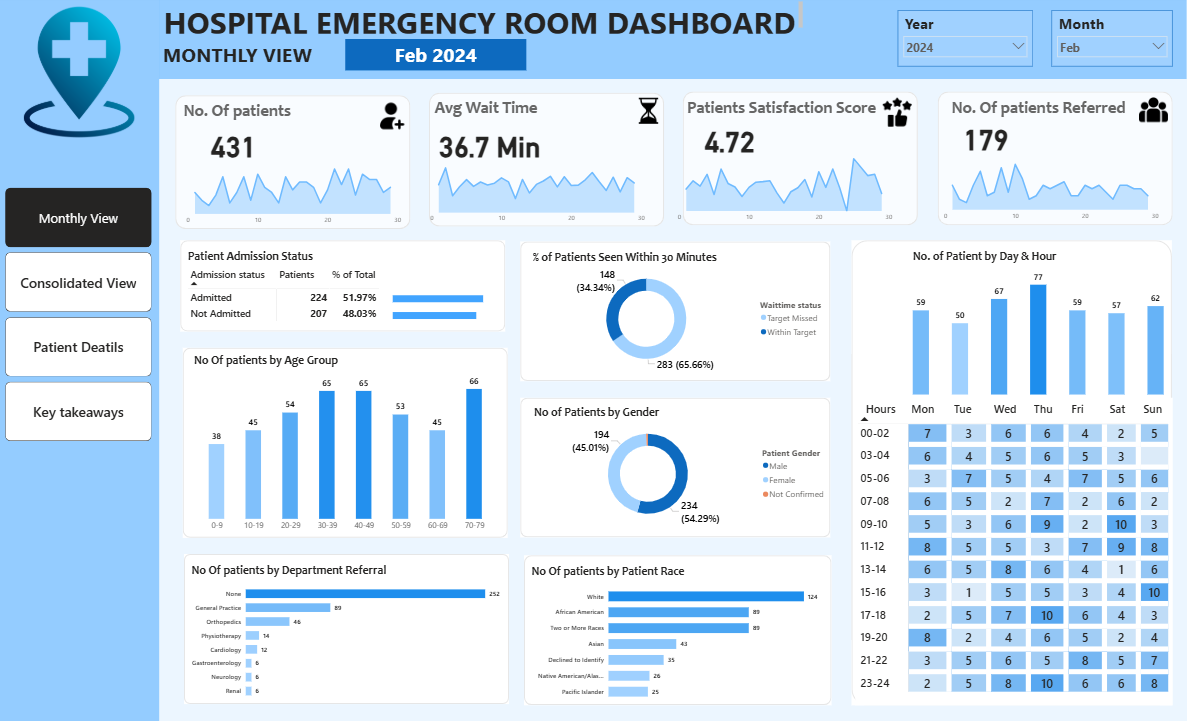

Layout of this report page (visuals, bound fields, positions):
{"tool":"powerbi","page":{"name":"Monthly View","canvas":[2300,1400],"ordinal":0},"visuals":[{"type":"shape","box":[0,0,310,1400.5],"z":0},{"type":"shape","box":[309.6,0,1990.7,154.8],"z":1000},{"type":"shape","box":[341.1,185.3,455,259],"z":2000},{"type":"textbox","box":[309.6,0,1250.5,72.6],"z":3000},{"type":"textbox","box":[309.6,77.4,343.5,62.9],"z":4000},{"type":"card","fields":{"Values":["Hospital ER_Data.No Of patients"]},"box":[309.6,207.1,287.8,142.7],"z":5000},{"type":"slicer","fields":{"Values":["Date Table.Year"]},"box":[1739.1,21.8,261.2,108.8],"z":6000},{"type":"slicer","fields":{"Values":["Date Table.Month"]},"box":[2036.6,21.8,234.6,108.8],"z":7000},{"type":"textbox","box":[324.1,191.1,273.3,72.6],"z":8000},{"type":"areaChart","fields":{"Category":["Date Table.Date.Variation.Date Hierarchy.Day"],"Y":["Hospital ER_Data.No Of patients"]},"box":[350.7,299.9,435.4,145.1],"z":9000},{"type":"card","fields":{"Values":["Min(Date Table.Month & Year)"]},"box":[670,77.4,350.7,60.5],"z":10000},{"type":"shape","box":[832.7,182.2,455,259],"z":11000},{"type":"card","fields":{"Values":["Hospital ER_Data.Avg Wait Time"]},"box":[805.5,208,287.8,142.7],"z":12000},{"type":"textbox","box":[805.5,186.2,273.3,72.6],"z":13000},{"type":"areaChart","fields":{"Category":["Date Table.Date.Variation.Date Hierarchy.Day"],"Y":["Avg(Hospital ER_Data.Patient Waittime)"]},"box":[823.2,298.3,435.4,145.1],"z":14000},{"type":"shape","box":[1324.3,179.5,455,259],"z":15000},{"type":"card","fields":{"Values":["Hospital ER_Data.Satisfaction Score"]},"box":[1269.7,197.7,287.8,142.7],"z":16000},{"type":"textbox","box":[1301.3,186.2,425.7,72.6],"z":17000},{"type":"areaChart","fields":{"Category":["Date Table.Date.Variation.Date Hierarchy.Day"],"Y":["Hospital ER_Data.Satisfaction Score"]},"box":[1301.2,294.5,435.4,145.1],"z":18000},{"type":"shape","box":[1816.5,179,454.7,258.8],"z":19000},{"type":"card","fields":{"Values":["Hospital ER_Data.No. Of patients Referred"]},"box":[1765.7,195.9,287.8,142.7],"z":20000},{"type":"textbox","box":[1826.2,186.2,370.1,72.6],"z":21000},{"type":"areaChart","fields":{"Category":["Date Table.Date.Variation.Date Hierarchy.Day"],"Y":["Hospital ER_Data.No. Of patients Referred"]},"box":[1815.9,292.5,435.4,145.1],"z":22000},{"type":"shape","box":[350.7,466.8,628.9,176.6],"z":23000},{"type":"pivotTable","title":"Patient Admission Status","fields":{"Rows":["Hospital ER_Data.Admission status"],"Values":["Hospital ER_Data.No Of patients1","Hospital ER_Data.No Of patients"]},"box":[360.4,483.8,624.1,176.6],"z":24000},{"type":"barChart","fields":{"Category":["Hospital ER_Data.Admission status"],"Y":["Hospital ER_Data.No Of patients"]},"box":[757.1,544.2,244.3,99.2],"z":25000},{"type":"shape","box":[355.6,674.6,628.9,367.7],"z":26000},{"type":"columnChart","title":"    No Of patients by Age Group","fields":{"Category":["Hospital ER_Data.Age Group"],"Y":["Hospital ER_Data.No Of patients"]},"box":[372.5,685.5,597.4,355.6],"z":27000},{"type":"shape","box":[358.5,1074.4,628.9,290.3],"z":28000},{"type":"clusteredBarChart","fields":{"Category":["Hospital ER_Data.Department Referral"],"Y":["Hospital ER_Data.No Of patients"]},"box":[368.1,1091.4,609.5,273.3],"z":29000},{"type":"shape","box":[1009.1,469.2,600,270],"z":30000},{"type":"donutChart","title":"% of Patients Seen Within 30 Minutes","fields":{"Category":["Hospital ER_Data.Waittime status"],"Y":["Hospital ER_Data.No Of patients"]},"box":[1027.5,485,582.5,237.5],"z":31000},{"type":"shape","box":[1009.1,771.2,600,270],"z":32000},{"type":"donutChart","title":"No of Patients by Gender","fields":{"Category":["Hospital ER_Data.Patient Gender"],"Y":["Hospital ER_Data.No Of patients"]},"box":[1030,785,580,237.5],"z":33000},{"type":"shape","box":[1015,1077.5,595,290],"z":34000},{"type":"clusteredBarChart","fields":{"Y":["Hospital ER_Data.No Of patients"],"Category":["Hospital ER_Data.Patient Race"]},"box":[1025,1092.5,565,275],"z":35000},{"type":"shape","box":[1650,467.5,620,900],"z":36000},{"type":"pivotTable","fields":{"Columns":["Date Table.Day"],"Rows":["Hospital ER_Data.Admittime interval"],"Values":["Hospital ER_Data.No Of patients"]},"box":[1656.9,771.6,614.4,595],"z":37000},{"type":"columnChart","title":"No. of Patient by Day & Hour","fields":{"Y":["CountNonNull(Hospital ER_Data.Patient Id)"],"Category":["Date Table.Day"]},"box":[1763.3,483.8,498.3,287.8],"z":38000},{"type":"image","box":[26.6,14.5,256.4,254],"z":39000},{"type":"image","box":[2206,186.2,55.6,55.6],"z":40000},{"type":"image","box":[1710.1,191.1,55.6,55.6],"z":41000},{"type":"image","box":[730.5,198.3,55.6,55.6],"z":42000},{"type":"image","box":[1228.8,191.1,55.6,50],"z":43000},{"type":"pageNavigator","box":[12.1,365.2,283,493.4],"z":44000}]}

Visuals, with their boxes in screenshot pixels (x1, y1, x2, y2), scaled from the page's 2300x1400 canvas onto the 1187x721 screenshot:
shape: <bbox>0, 0, 160, 720</bbox>
shape: <bbox>160, 0, 1186, 80</bbox>
shape: <bbox>176, 95, 411, 229</bbox>
textbox: <bbox>160, 0, 805, 37</bbox>
textbox: <bbox>160, 40, 337, 72</bbox>
card - Hospital ER_Data.No Of patients: <bbox>160, 107, 308, 180</bbox>
slicer - Date Table.Year: <bbox>898, 11, 1032, 67</bbox>
slicer - Date Table.Month: <bbox>1051, 11, 1172, 67</bbox>
textbox: <bbox>167, 98, 308, 136</bbox>
areaChart - Date Table.Date.Variation.Date Hierarchy.Day x Hospital ER_Data.No Of patients: <bbox>181, 154, 406, 229</bbox>
card - Min(Date Table.Month & Year): <bbox>346, 40, 527, 71</bbox>
shape: <bbox>430, 94, 665, 227</bbox>
card - Hospital ER_Data.Avg Wait Time: <bbox>416, 107, 564, 181</bbox>
textbox: <bbox>416, 96, 557, 133</bbox>
areaChart - Date Table.Date.Variation.Date Hierarchy.Day x Avg(Hospital ER_Data.Patient Waittime): <bbox>425, 154, 650, 228</bbox>
shape: <bbox>683, 92, 918, 226</bbox>
card - Hospital ER_Data.Satisfaction Score: <bbox>655, 102, 804, 175</bbox>
textbox: <bbox>672, 96, 891, 133</bbox>
areaChart - Date Table.Date.Variation.Date Hierarchy.Day x Hospital ER_Data.Satisfaction Score: <bbox>672, 152, 896, 226</bbox>
shape: <bbox>937, 92, 1172, 225</bbox>
card - Hospital ER_Data.No. Of patients Referred: <bbox>911, 101, 1060, 174</bbox>
textbox: <bbox>942, 96, 1133, 133</bbox>
areaChart - Date Table.Date.Variation.Date Hierarchy.Day x Hospital ER_Data.No. Of patients Referred: <bbox>937, 151, 1162, 225</bbox>
shape: <bbox>181, 240, 506, 331</bbox>
"Patient Admission Status" pivotTable: <bbox>186, 249, 508, 340</bbox>
barChart - Hospital ER_Data.Admission status x Hospital ER_Data.No Of patients: <bbox>391, 280, 517, 331</bbox>
shape: <bbox>184, 347, 508, 537</bbox>
"    No Of patients by Age Group" columnChart: <bbox>192, 353, 501, 536</bbox>
shape: <bbox>185, 553, 510, 703</bbox>
clusteredBarChart - Hospital ER_Data.Department Referral x Hospital ER_Data.No Of patients: <bbox>190, 562, 505, 703</bbox>
shape: <bbox>521, 242, 830, 381</bbox>
"% of Patients Seen Within 30 Minutes" donutChart: <bbox>530, 250, 831, 372</bbox>
shape: <bbox>521, 397, 830, 536</bbox>
"No of Patients by Gender" donutChart: <bbox>532, 404, 831, 527</bbox>
shape: <bbox>524, 555, 831, 704</bbox>
clusteredBarChart - Hospital ER_Data.No Of patients x Hospital ER_Data.Patient Race: <bbox>529, 563, 821, 704</bbox>
shape: <bbox>852, 241, 1172, 704</bbox>
pivotTable - Date Table.Day x Hospital ER_Data.Admittime interval: <bbox>855, 397, 1172, 704</bbox>
"No. of Patient by Day & Hour" columnChart: <bbox>910, 249, 1167, 397</bbox>
image: <bbox>14, 7, 146, 138</bbox>
image: <bbox>1138, 96, 1167, 125</bbox>
image: <bbox>883, 98, 911, 127</bbox>
image: <bbox>377, 102, 406, 131</bbox>
image: <bbox>634, 98, 663, 124</bbox>
pageNavigator: <bbox>6, 188, 152, 442</bbox>
